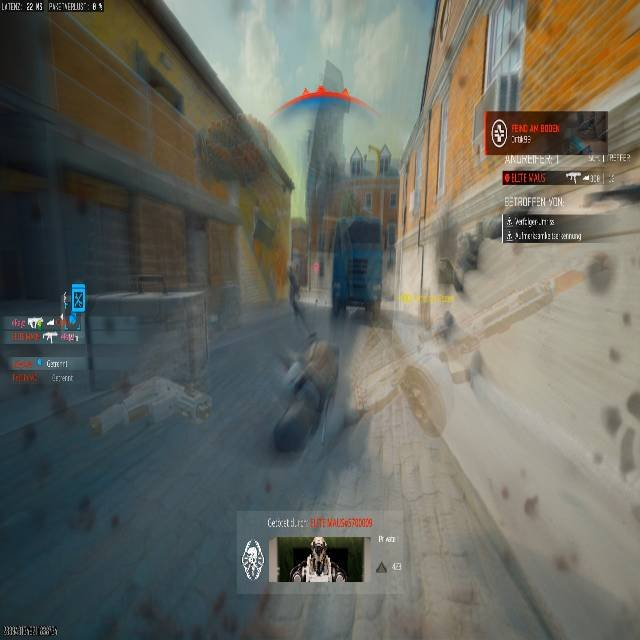head: (305, 338, 337, 376)
player: (268, 337, 340, 457), (290, 537, 338, 582)
